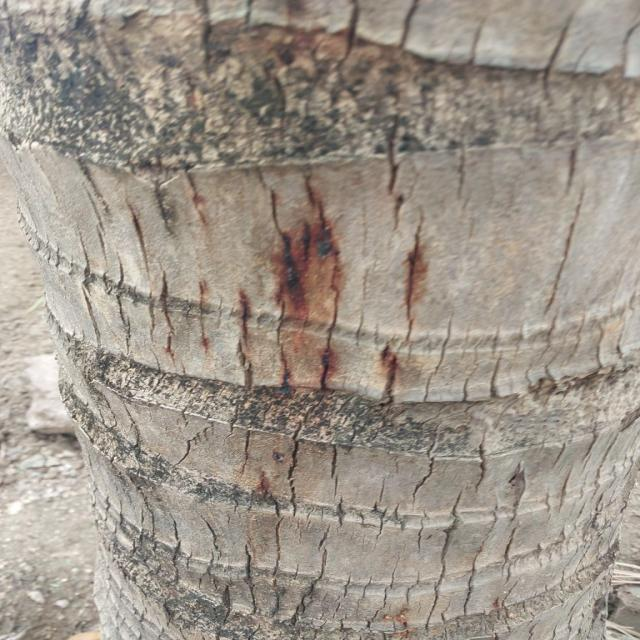stembleeding: (162, 177, 444, 536)
